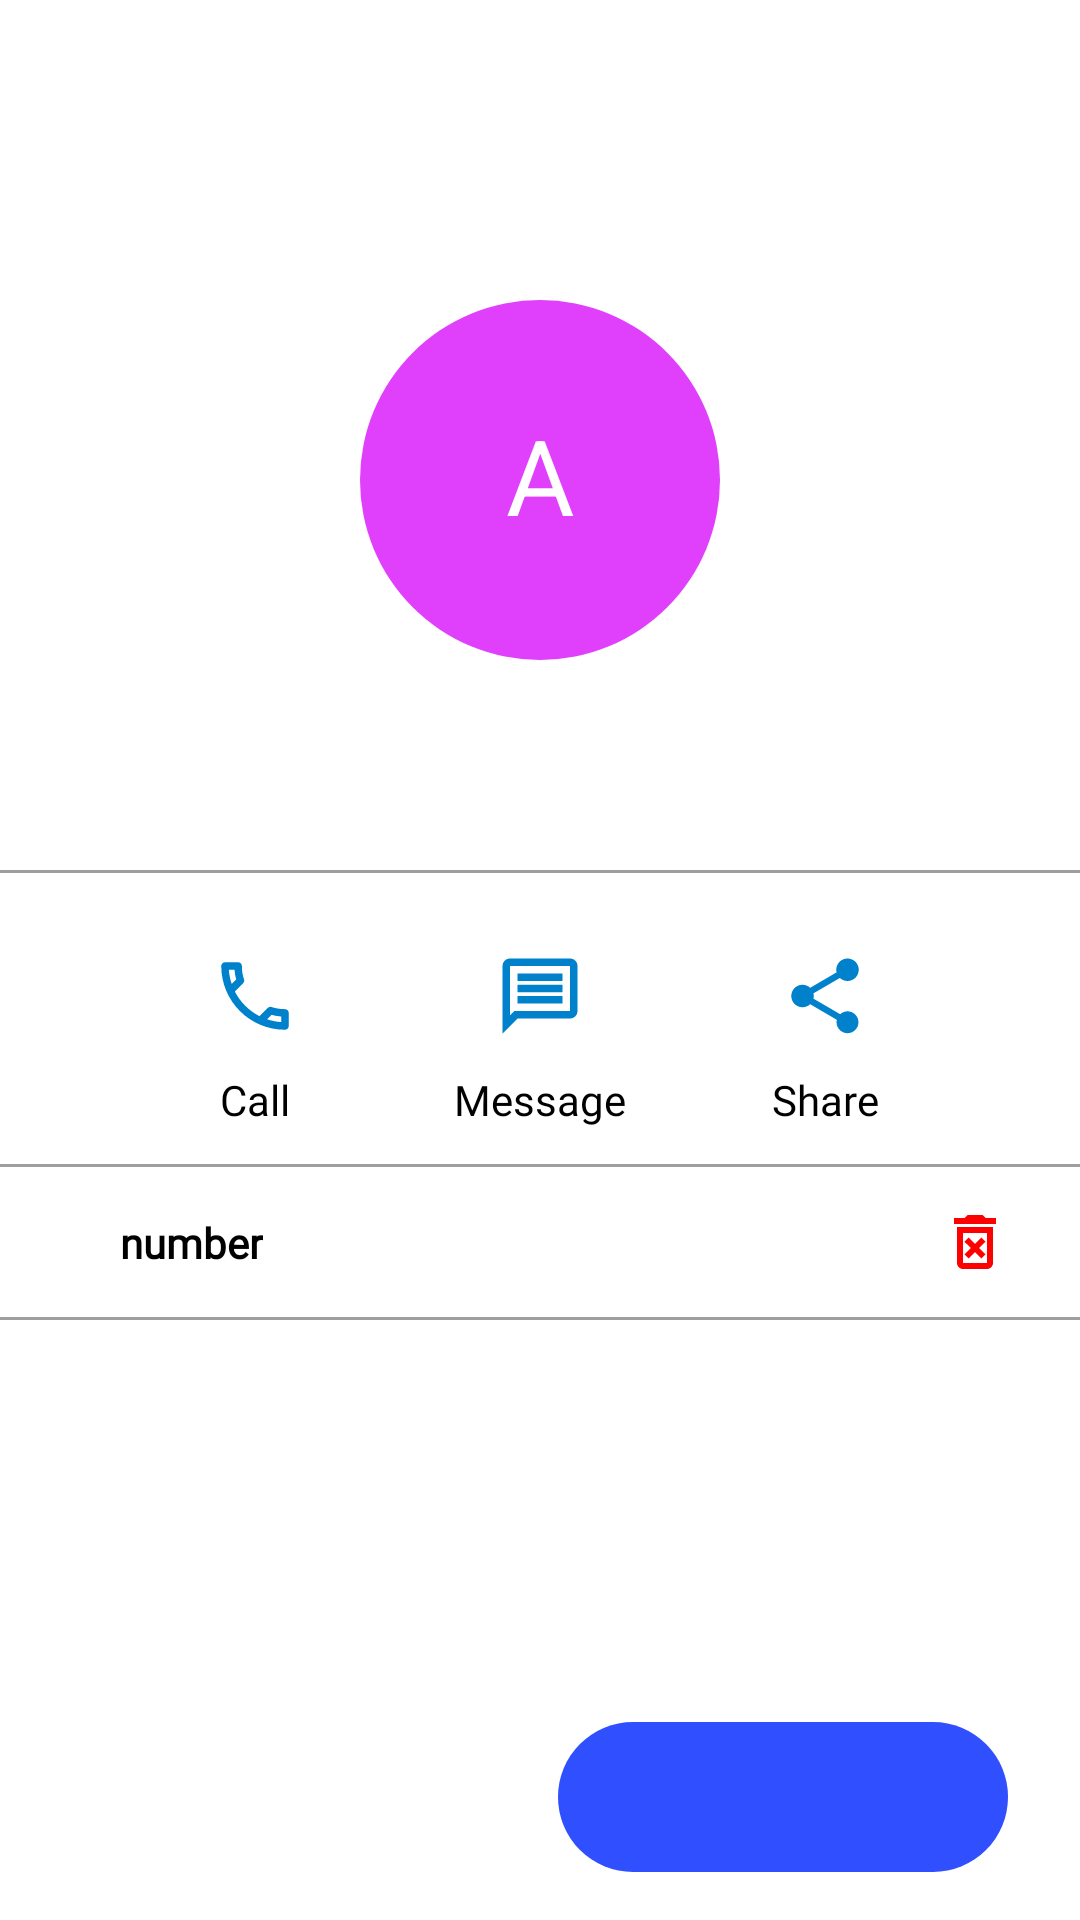

Icons on this 1080px×1920px Android screen, each with the point to tap as [x,y]:
delete button: [975,1242]
